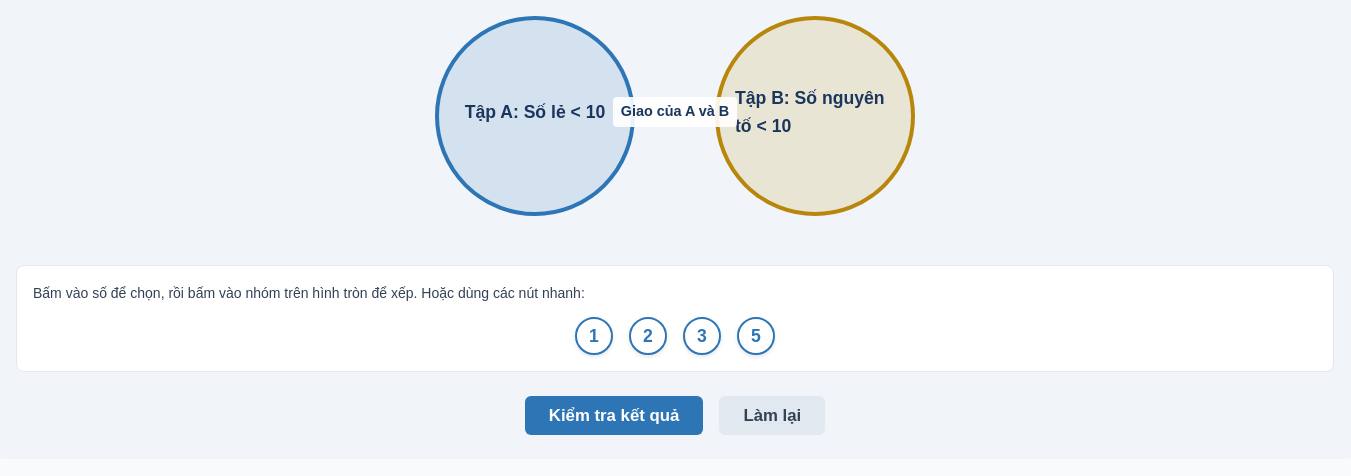
Test: VennDiagram Component › selects an element in the pool and moves it using quick action buttons
The image size is (1351, 476).
// Click on element 1
Click the button with test id "badge-pool-1".
click(594, 336)  # box [575,317,613,355]
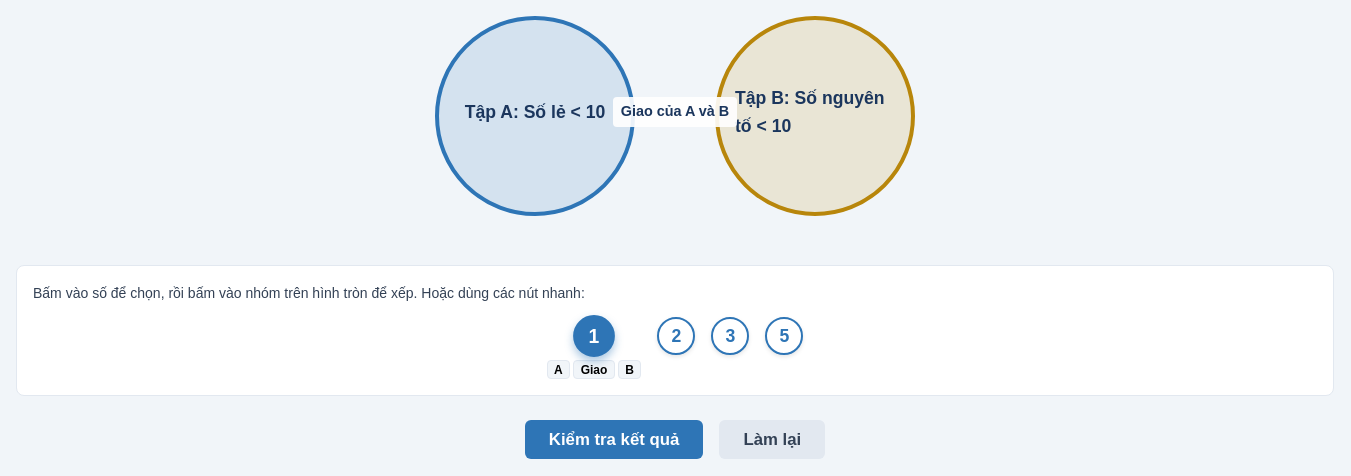
Result: the element with test id "quick-actions-1" is shown at [547,360,641,379]
// Click on quick action 'A'
Click the button "A".
click(558, 370)  # box [547,360,570,379]
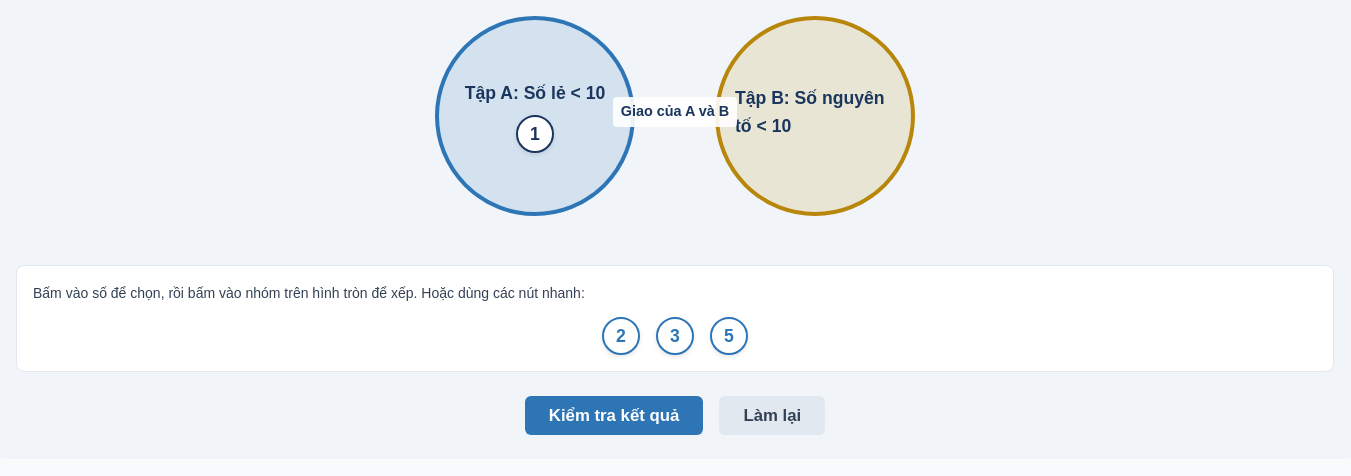
Expected: the button with test id "badge-a-1" is shown, [516,115,554,153]
Result: the button with test id "badge-pool-1" is gone
